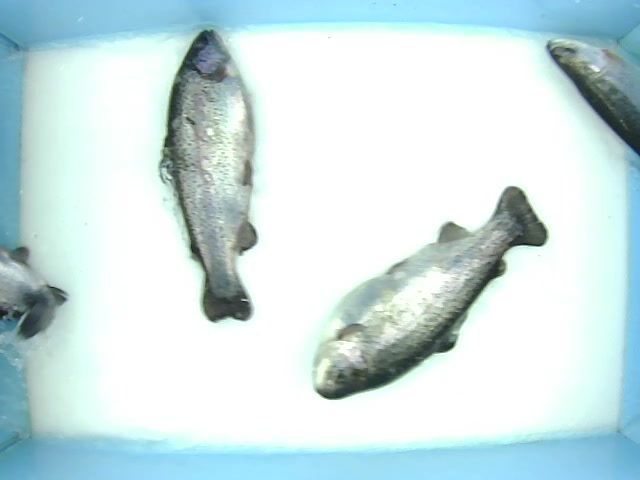fish: (310, 182, 551, 401), (157, 27, 259, 322)
